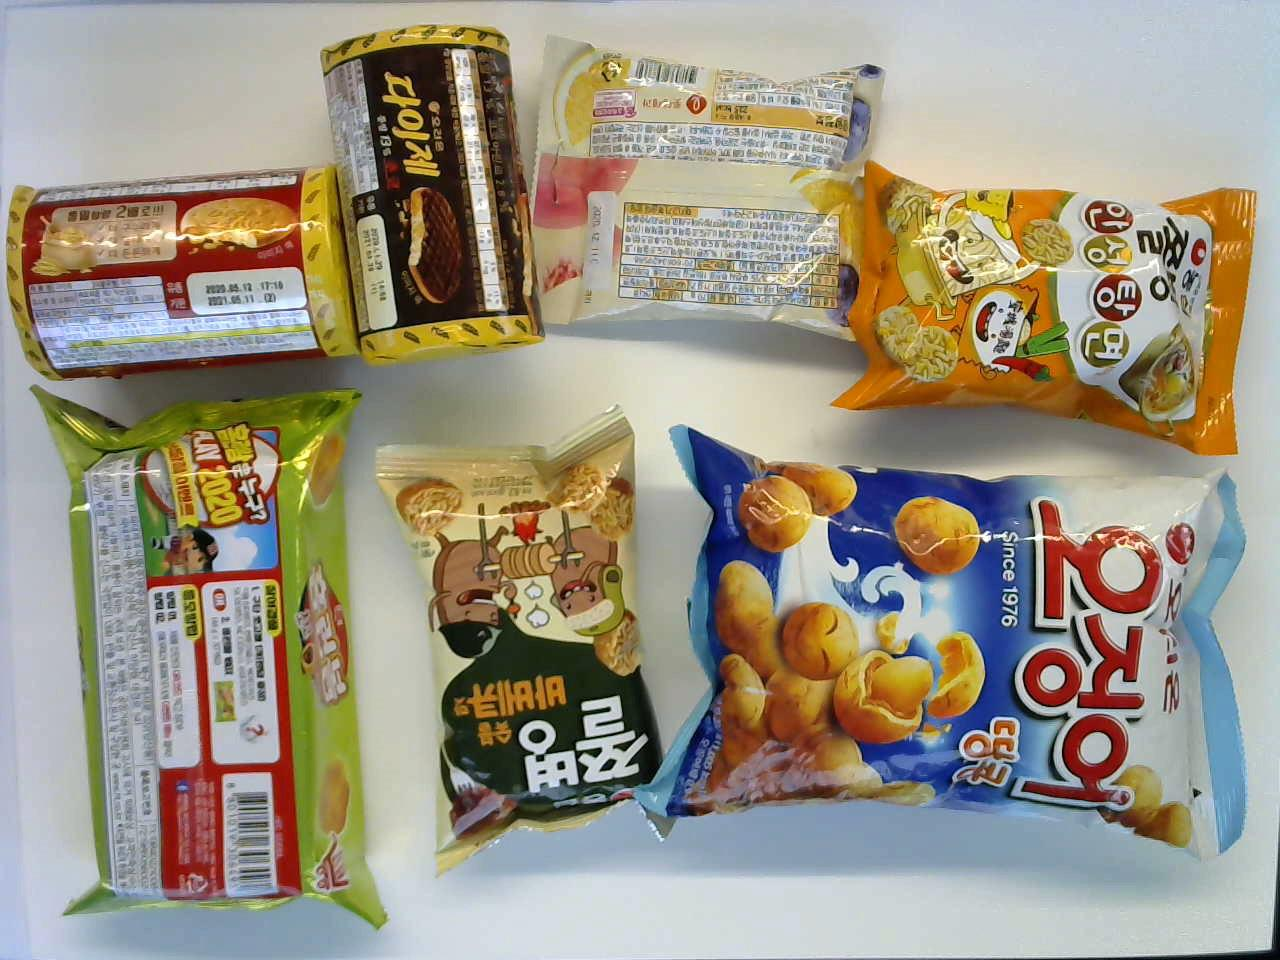diget_choco: (309, 21, 552, 359)
diget_ori: (9, 163, 350, 384)
gumi_gumi: (517, 48, 892, 343)
homerunball: (46, 377, 392, 932)
jjolbyung_noodle: (840, 158, 1272, 449)
jjolbyung_ori: (364, 404, 681, 876)
squid_peanut: (658, 419, 1257, 865)
